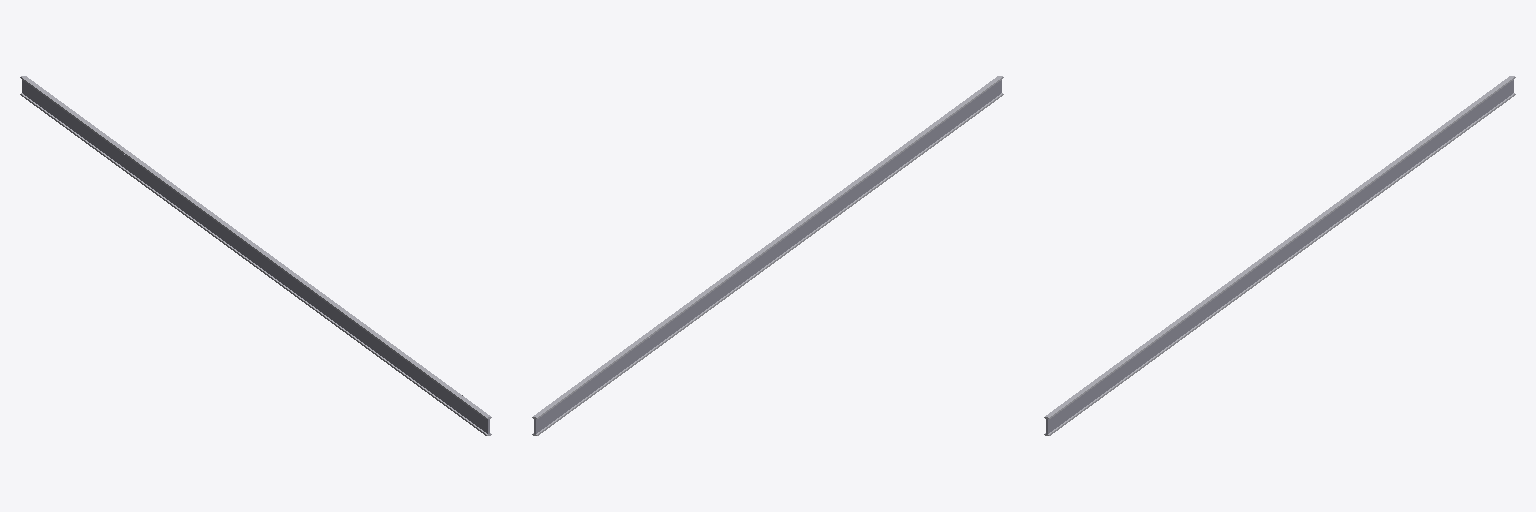
robot.urdf — h_bar:
<?xml version="1.0" ?>
<!-- =================================================================================== -->
<!-- |    This document was autogenerated by xacro from h_bar.xacro                    | -->
<!-- |    EDITING THIS FILE BY HAND IS NOT RECOMMENDED                                 | -->
<!-- =================================================================================== -->
<robot name="h_bar">
  <link name="world"/>
  <!-- Bottom leg (aligned with z-axis after rotation, below origin) -->
  <link name="hbar_bottom_leg">
    <visual>
      <origin rpy="0 1.57079633 0" xyz="0 0 0"/>
      <geometry>
        <!-- thickness x, profile width y, leg length along local z -->
        <box size="0.01 5.0 0.03"/>
      </geometry>
      <material name="hbar_material_bottom">
        <!-- Brushed steel-like gray -->
        <color rgba="0.75 0.75 0.78 1.0"/>
      </material>
    </visual>
    <collision>
      <origin rpy="0 1.57079633 0" xyz="0 0 0"/>
      <geometry>
        <box size="0.01 5.0 0.03"/>
      </geometry>
    </collision>
    <inertial>
      <origin rpy="0 0 0" xyz="0 0 0"/>
      <mass value="0.3333333333333333"/>
      <inertia ixx="0.6944694444444445" ixy="0.0" ixz="0.0" iyy="2.7777777777777776e-05" iyz="0.0" izz="0.6944472222222222"/>
    </inertial>
  </link>
  <!-- Top leg (aligned with z-axis after rotation, above origin) -->
  <link name="hbar_top_leg">
    <visual>
      <origin rpy="0 1.57079633 0" xyz="0 0 0"/>
      <geometry>
        <box size="0.01 5.0 0.03"/>
      </geometry>
      <material name="hbar_material_top">
        <!-- Brushed steel-like gray -->
        <color rgba="0.75 0.75 0.78 1.0"/>
      </material>
    </visual>
    <collision>
      <origin rpy="0 1.57079633 0" xyz="0 0 0"/>
      <geometry>
        <box size="0.01 5.0 0.03"/>
      </geometry>
    </collision>
    <inertial>
      <origin rpy="0 0 0" xyz="0 0 0"/>
      <mass value="0.3333333333333333"/>
      <inertia ixx="0.6944694444444445" ixy="0.0" ixz="0.0" iyy="2.7777777777777776e-05" iyz="0.0" izz="0.6944472222222222"/>
    </inertial>
  </link>
  <!-- Crossbar: vertical (aligned with z-axis) at the origin -->
  <link name="hbar_crossbar">
    <visual>
      <!-- Thickness in x,y, length in z -->
      <origin rpy="0 0 0" xyz="0 0 0"/>
      <geometry>
        <box size="0.01 5.0 0.1"/>
      </geometry>
      <material name="hbar_material_cross">
        <!-- Slightly darker steel for visual contrast -->
        <color rgba="0.65 0.65 0.7 1.0"/>
      </material>
    </visual>
    <collision>
      <origin rpy="0 0 0" xyz="0 0 0"/>
      <geometry>
        <box size="0.01 5.0 0.1"/>
      </geometry>
    </collision>
    <inertial>
      <origin rpy="0 0 0" xyz="0 0 0"/>
      <mass value="0.3333333333333333"/>
      <inertia ixx="0.6947222222222222" ixy="0.0" ixz="0.0" iyy="0.0002805555555555556" iyz="0.0" izz="0.6944472222222222"/>
    </inertial>
  </link>
  <!-- Fix crossbar to world; its center is at the macro pose -->
  <joint name="hbar_cross_fix" type="fixed">
    <parent link="world"/>
    <child link="hbar_crossbar"/>
    <origin rpy="0 0 0" xyz="0 0 0"/>
  </joint>
  <!-- Top leg: translated +L_leg/2 in x and +L_span/2 in z relative to crossbar -->
  <joint name="hbar_top_fix" type="fixed">
    <parent link="hbar_crossbar"/>
    <child link="hbar_top_leg"/>
    <origin rpy="0 0.0 0" xyz="0 0 0.05"/>
  </joint>
  <!-- Bottom leg: translated +L_leg/2 in x and -L_span/2 in z relative to crossbar -->
  <joint name="hbar_bottom_fix" type="fixed">
    <parent link="hbar_crossbar"/>
    <child link="hbar_bottom_leg"/>
    <origin rpy="0 0 0" xyz="0 0 -0.05"/>
  </joint>
</robot>

--- Render facts (derived) ---
The picture shows the robot from 3 angles, left to right: view 1: azimuth 30°, elevation 25°; view 2: azimuth 150°, elevation 25°; view 3: azimuth 330°, elevation 25°; orthographic projection.
Model h_bar with 4 links and 3 joints (3 fixed), rooted at world, posed all joints at 0.
Links seen in each view (by area): view 1: hbar_crossbar, hbar_top_leg, hbar_bottom_leg; view 2: hbar_crossbar, hbar_top_leg, hbar_bottom_leg; view 3: hbar_crossbar, hbar_top_leg, hbar_bottom_leg.
Link boxes in pixels (x1=…): hbar_crossbar: x1=22, y1=80, x2=489, y2=433; hbar_top_leg: x1=20, y1=76, x2=491, y2=418; hbar_bottom_leg: x1=20, y1=93, x2=491, y2=435; hbar_crossbar: x1=534, y1=80, x2=1001, y2=433; hbar_top_leg: x1=532, y1=76, x2=1003, y2=418; hbar_bottom_leg: x1=532, y1=93, x2=1003, y2=435; hbar_crossbar: x1=1046, y1=80, x2=1513, y2=434; hbar_top_leg: x1=1044, y1=76, x2=1515, y2=418; hbar_bottom_leg: x1=1044, y1=93, x2=1515, y2=435.
Bounding box of the posed robot: 0.03 × 5 × 0.11 m (x, y, z).
Geometry: primitives only (box / cylinder / sphere), no mesh files.
